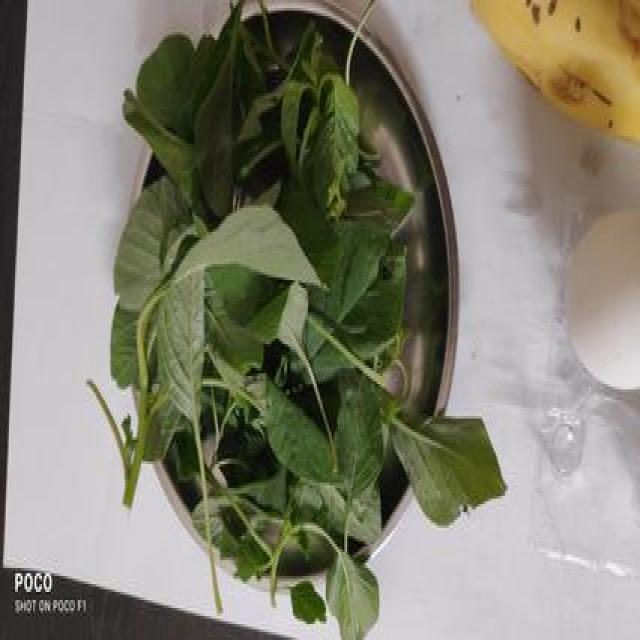Fresh_Spinach: (126, 36, 460, 556)
